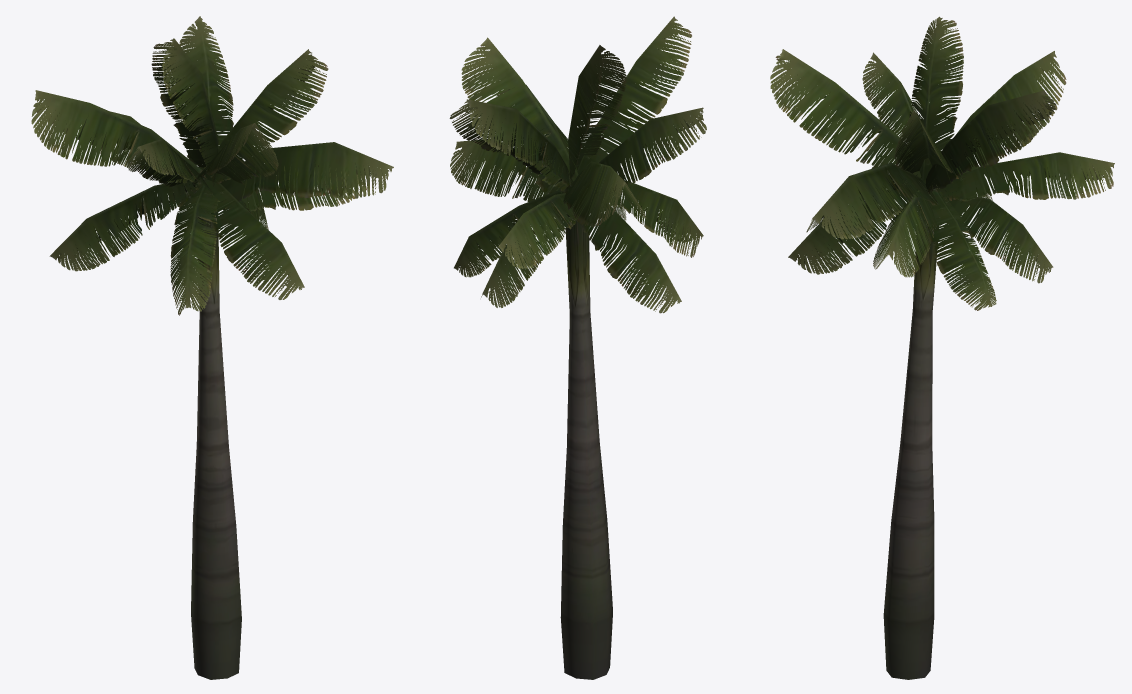
The picture shows the model from 3 angles, left to right: view 1: azimuth 30°, elevation 25°; view 2: azimuth 150°, elevation 25°; view 3: azimuth 270°, elevation 25°; orthographic projection. The views are drawn at different scales.
Parts seen in each view (by area): view 1: body0_model0_lod0_mesh0; view 2: body0_model0_lod0_mesh0; view 3: body0_model0_lod0_mesh0.
Part boxes in pixels (<box>): body0_model0_lod0_mesh0: <box>31,16,393,679</box>; body0_model0_lod0_mesh0: <box>449,16,706,679</box>; body0_model0_lod0_mesh0: <box>770,16,1114,679</box>.
Bounding box in the file's own units: 336 × 707 × 372.
Materials: 1 (1 with a texture image).
